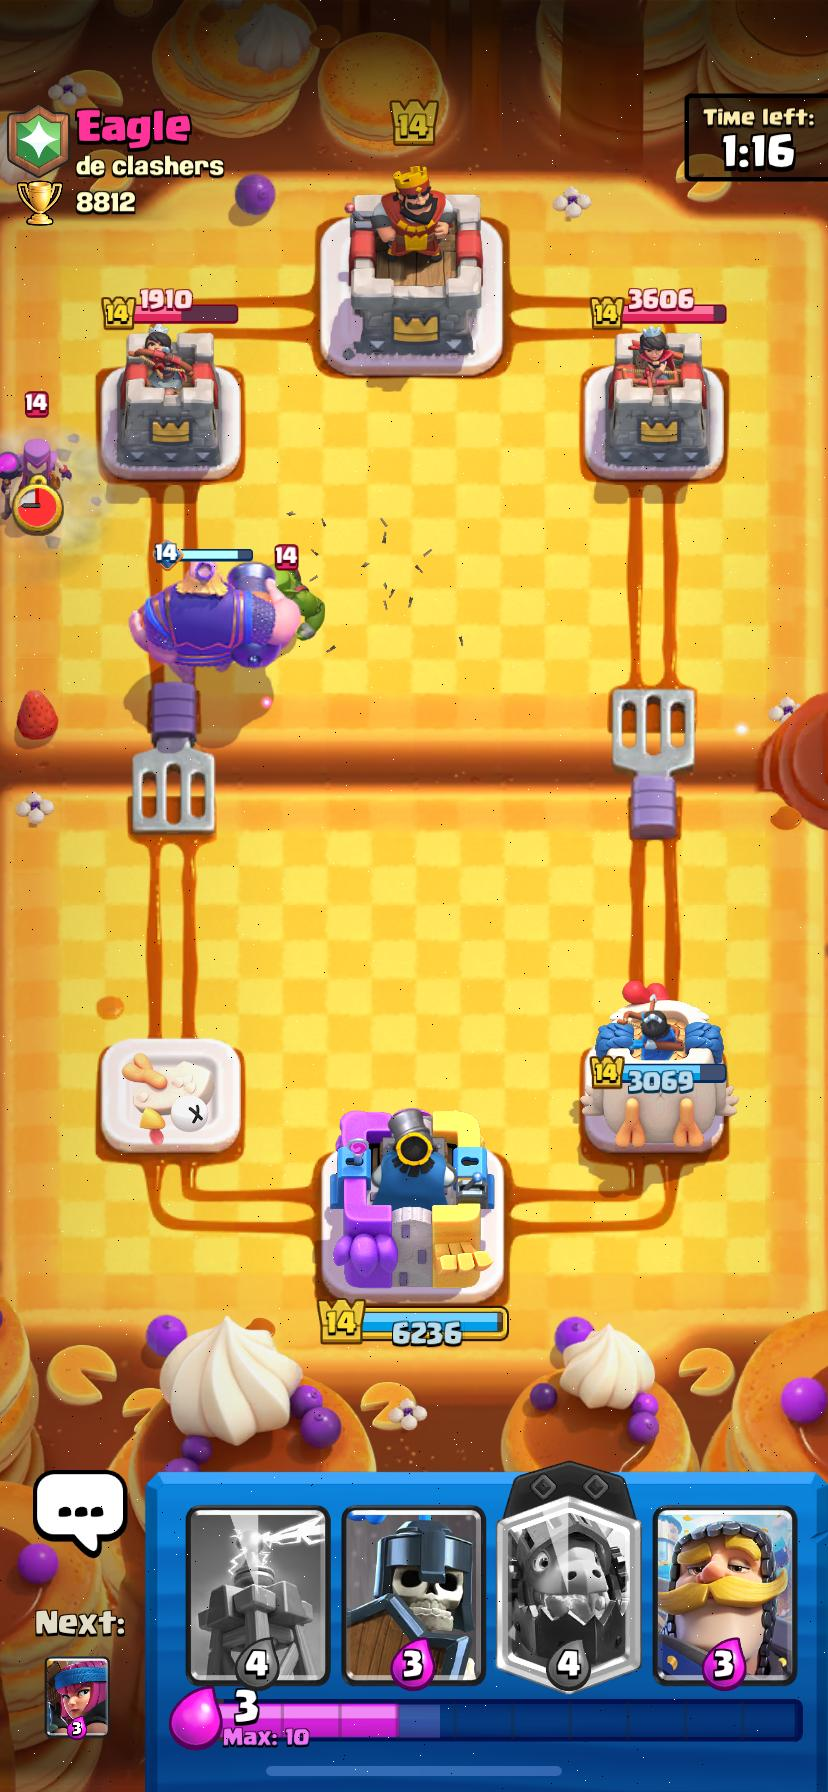EBrawler: (277, 567, 324, 640)
EKingTower: (328, 167, 502, 375)
EMotherWitch: (0, 439, 71, 507)
EnemyPrincessTower: (586, 327, 723, 479), (101, 325, 222, 479)
OEVRoyalG: (129, 555, 300, 682)
OwnKingTower: (321, 1109, 503, 1307)
OwnPrincessTower: (581, 982, 737, 1151)
TowerDown: (99, 1037, 242, 1157)
